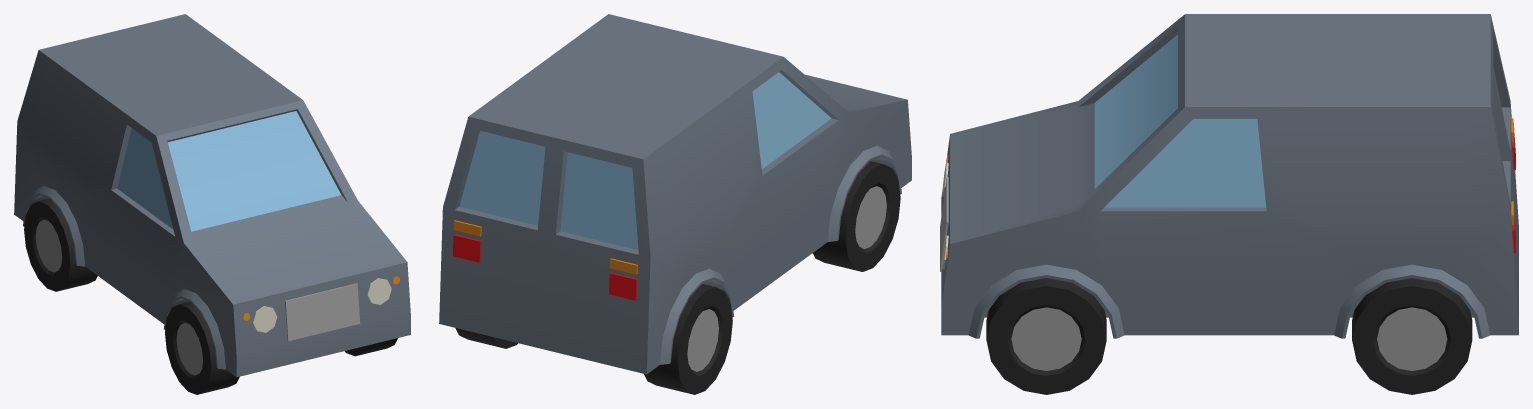
The model's file is car-microcargo-silver.gltf.
3 views of the same model, side by side, from view 1: azimuth 30°, elevation 25°; view 2: azimuth 150°, elevation 25°; view 3: azimuth 270°, elevation 25° (orthographic). The views are drawn at different scales.
Visible parts, largest first — view 1: car-microcargo-silver_Cube.637; view 2: car-microcargo-silver_Cube.637; view 3: car-microcargo-silver_Cube.637.
Boxes of the visible parts, bbox=[...] form: car-microcargo-silver_Cube.637: bbox=[14, 14, 410, 394]; car-microcargo-silver_Cube.637: bbox=[439, 14, 911, 394]; car-microcargo-silver_Cube.637: bbox=[940, 14, 1518, 394].
Size of the model in its own units: 1.79 by 1.9 by 3.64.
